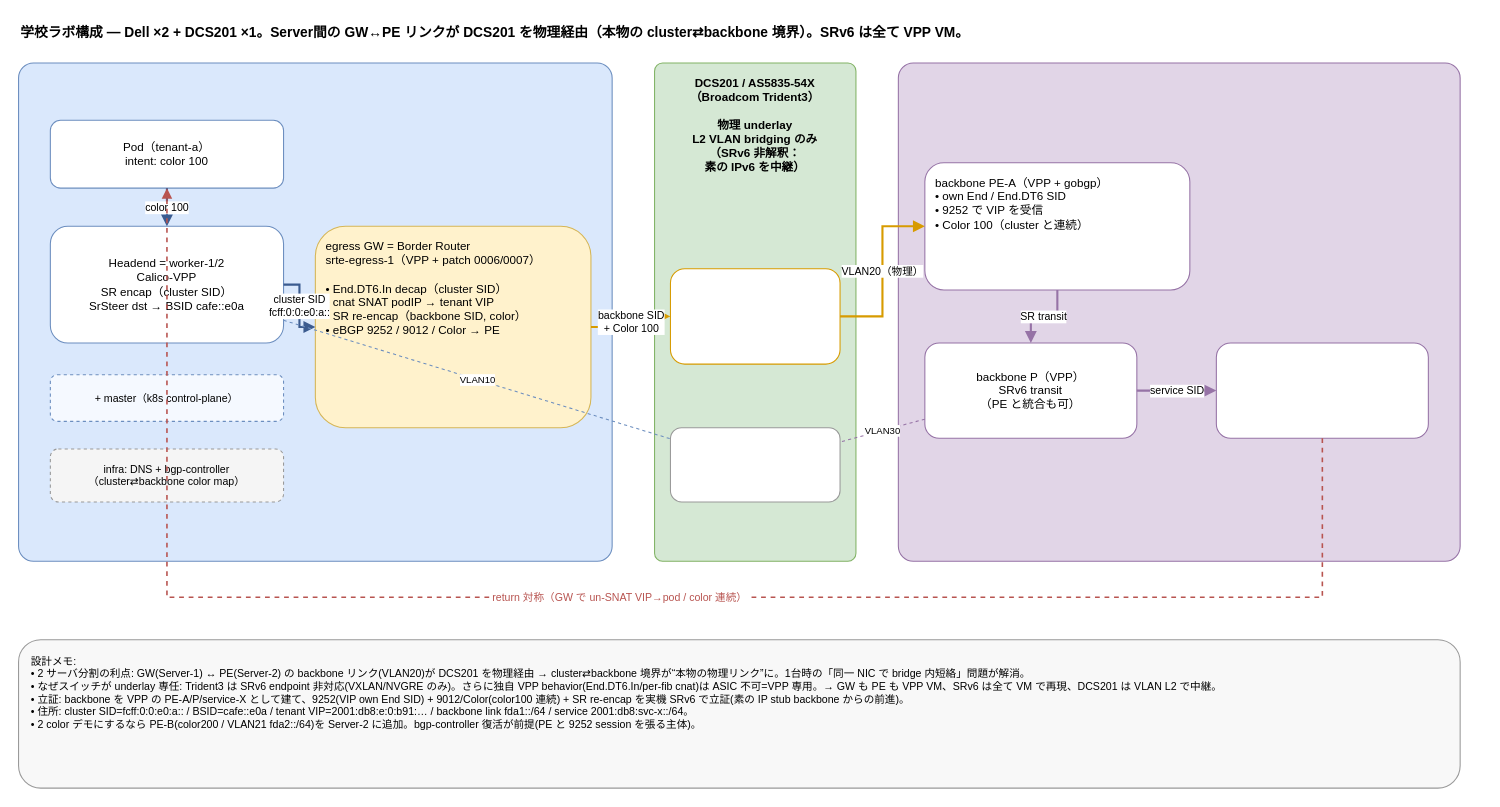
The diagram is 1500 pixels wide and 807 high, and some of its shapes have lost their labels. The shapes that lost their labels are listed below. From the top down, each one's box as (x1, y1, x2, y2) in pixels, then its label:
(17, 62, 612, 561): Server-1（Dell / Proxmox）— cluster + egress GW
(669, 268, 840, 364): VLAN20 GW↔PE fda1::/64（color100） ★ Server1 ↔ Server2 を 物理的に渡る backbone リンク
(897, 62, 1460, 561): Server-2（Dell / Proxmox）— operator SRv6 backbone（VPP VM = 本物の 2nd SR domain）
(1215, 342, 1428, 438): service-X（VM） 2001:db8:svc-x::/64 service SID の裏
(669, 427, 840, 502): VLAN10 cluster fd00:1::/64 VLAN30 backbone+svc VLAN99 mgmt
